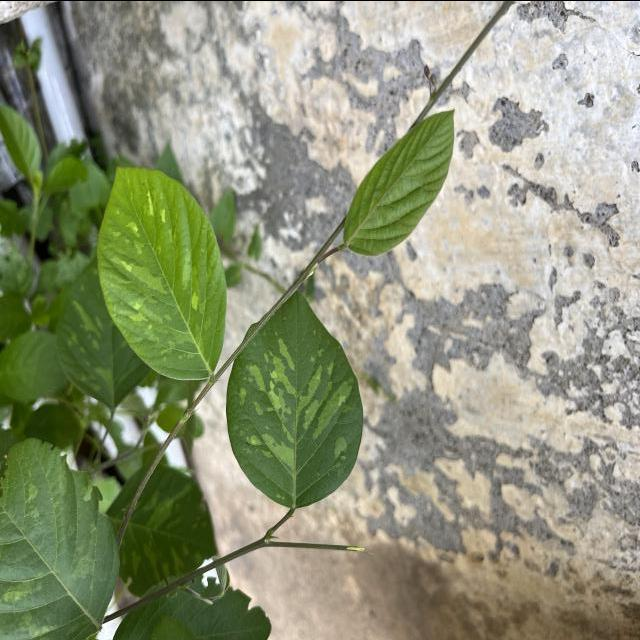Desmodium gangeticum: (224, 288, 366, 508), (95, 162, 228, 382)
